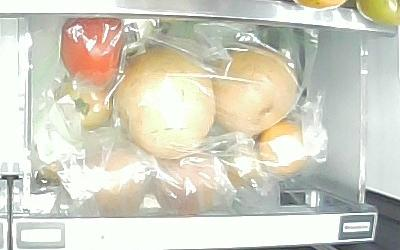peach_vinyl: (80, 144, 154, 217), (154, 153, 227, 217)
pear_vinyl: (116, 49, 216, 158), (210, 44, 299, 136)
tangerine_vinyl: (256, 121, 308, 174)
tomato_vinyl: (60, 17, 126, 83), (56, 79, 113, 131)
